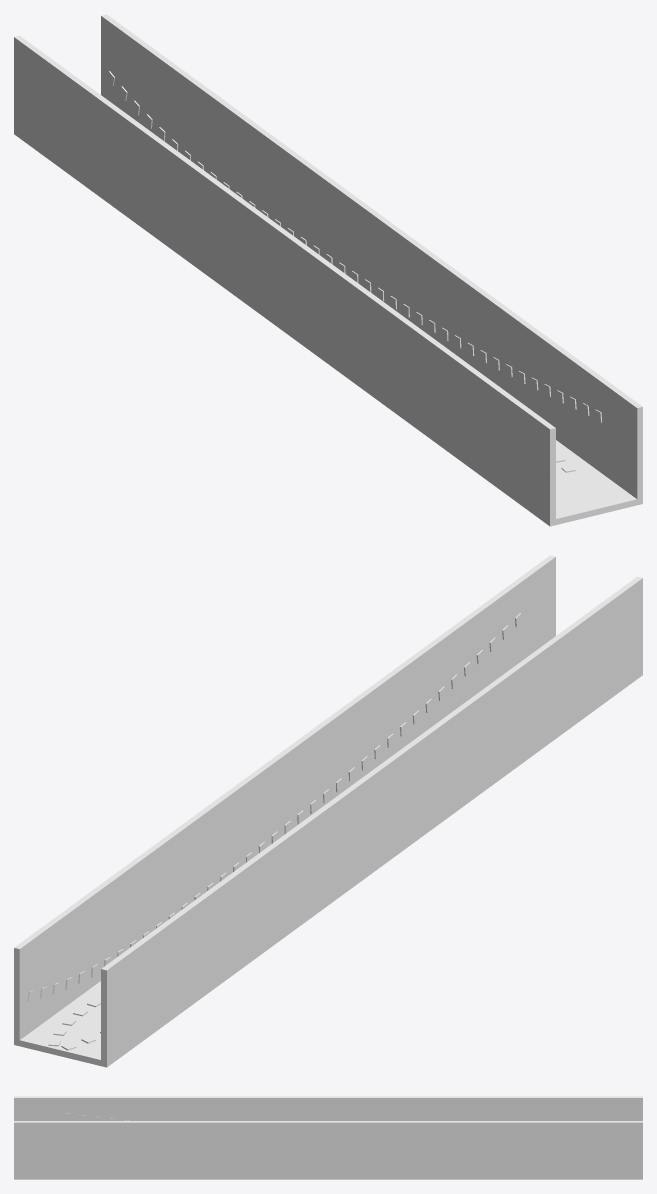
Rendered from Demohole1.obj.
3 renders of one model, top to bottom at view 1: azimuth 30°, elevation 25°; view 2: azimuth 150°, elevation 25°; view 3: azimuth 270°, elevation 25°, orthographic. The views are drawn at different scales.
Visible parts, largest first — view 1: 立方体; view 2: 立方体; view 3: 立方体.
Boxes of the visible parts, x1=… form: 立方体: x1=14, y1=14, x2=642, y2=526; 立方体: x1=14, y1=555, x2=642, y2=1067; 立方体: x1=14, y1=1096, x2=642, y2=1179.
Size of the model in its own units: 20 by 20 by 200.
Materials: 1 (1 with a texture image).
